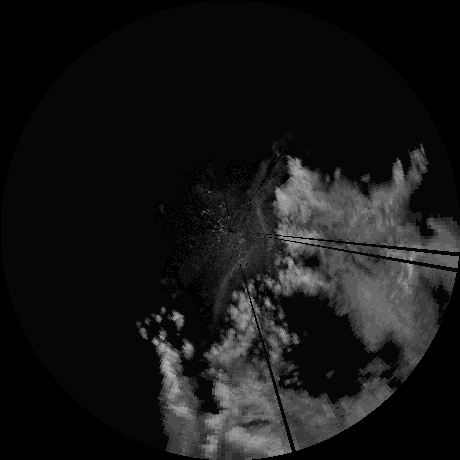frontgust: (214, 249, 250, 318), (255, 158, 274, 240)
